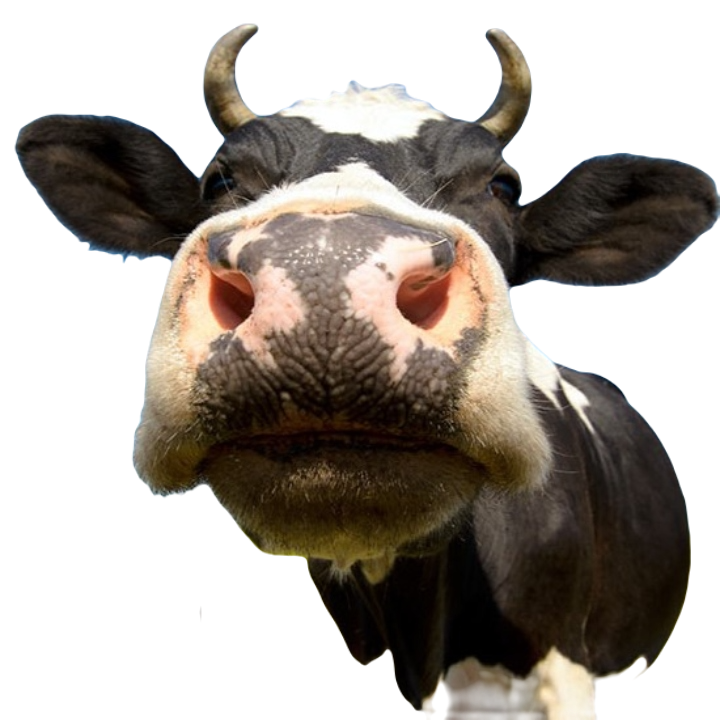Cow: (15, 19, 719, 719)
